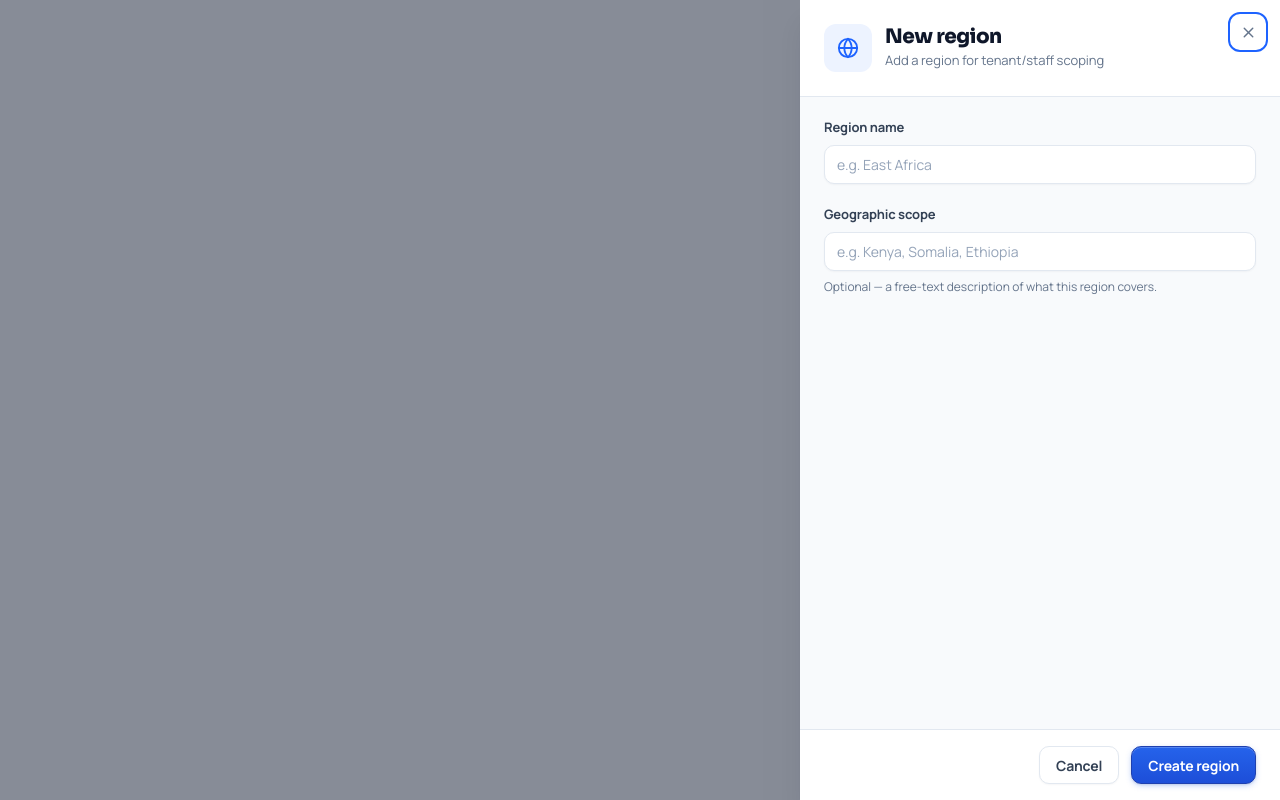
Test: CreateRegionForm › requires a region name before submitting
Click the button "Create region": (1194, 765) [1131, 746, 1256, 784]
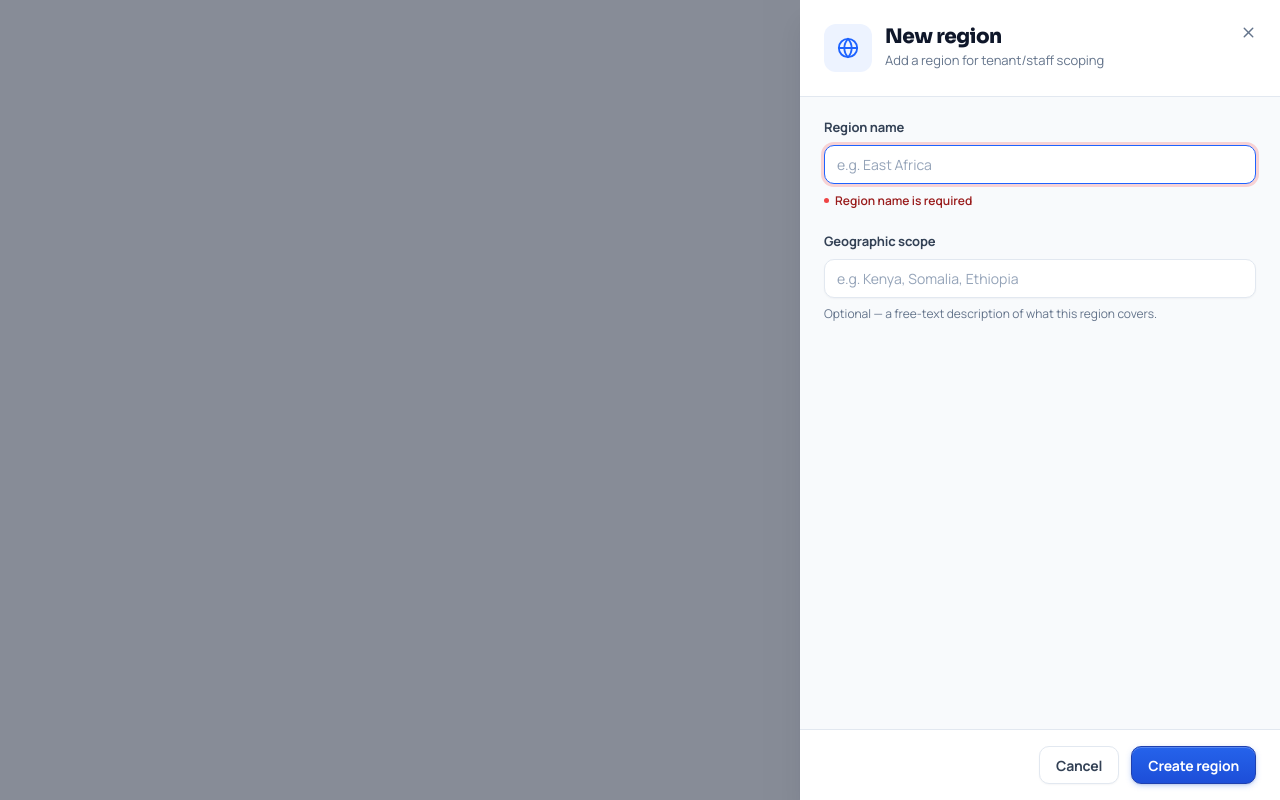
Now the text "Region name is required" is shown, box [835, 192, 972, 209]
